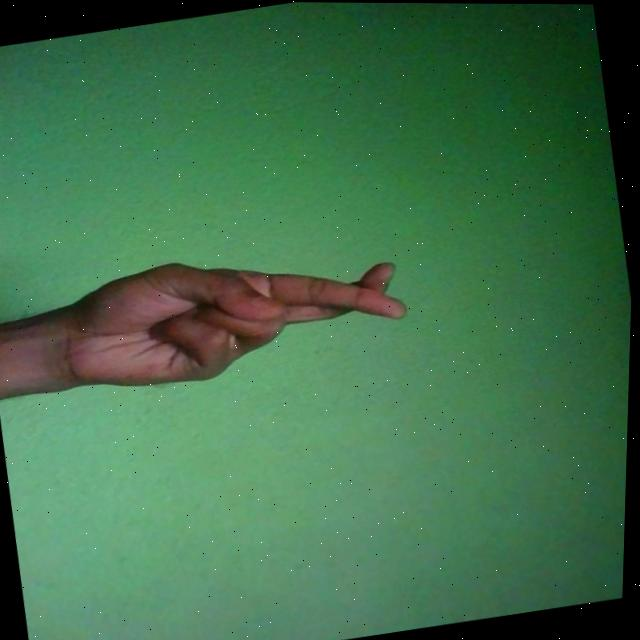Good Luck: (41, 227, 417, 405)
